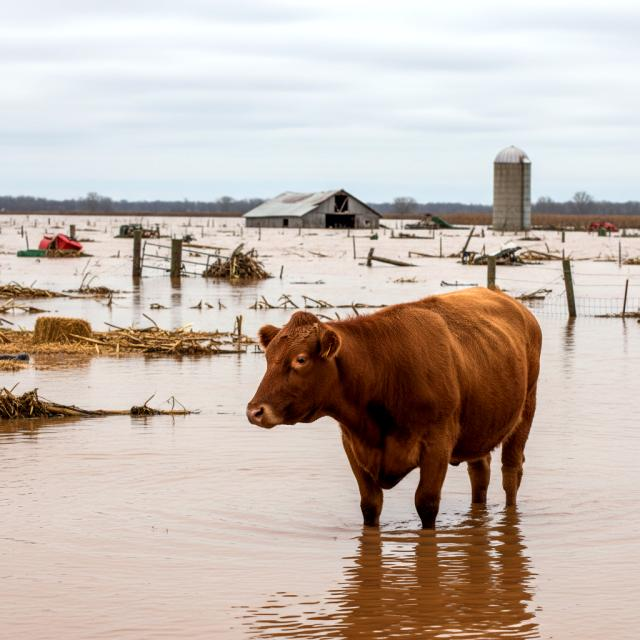cow: (228, 272, 560, 544)
